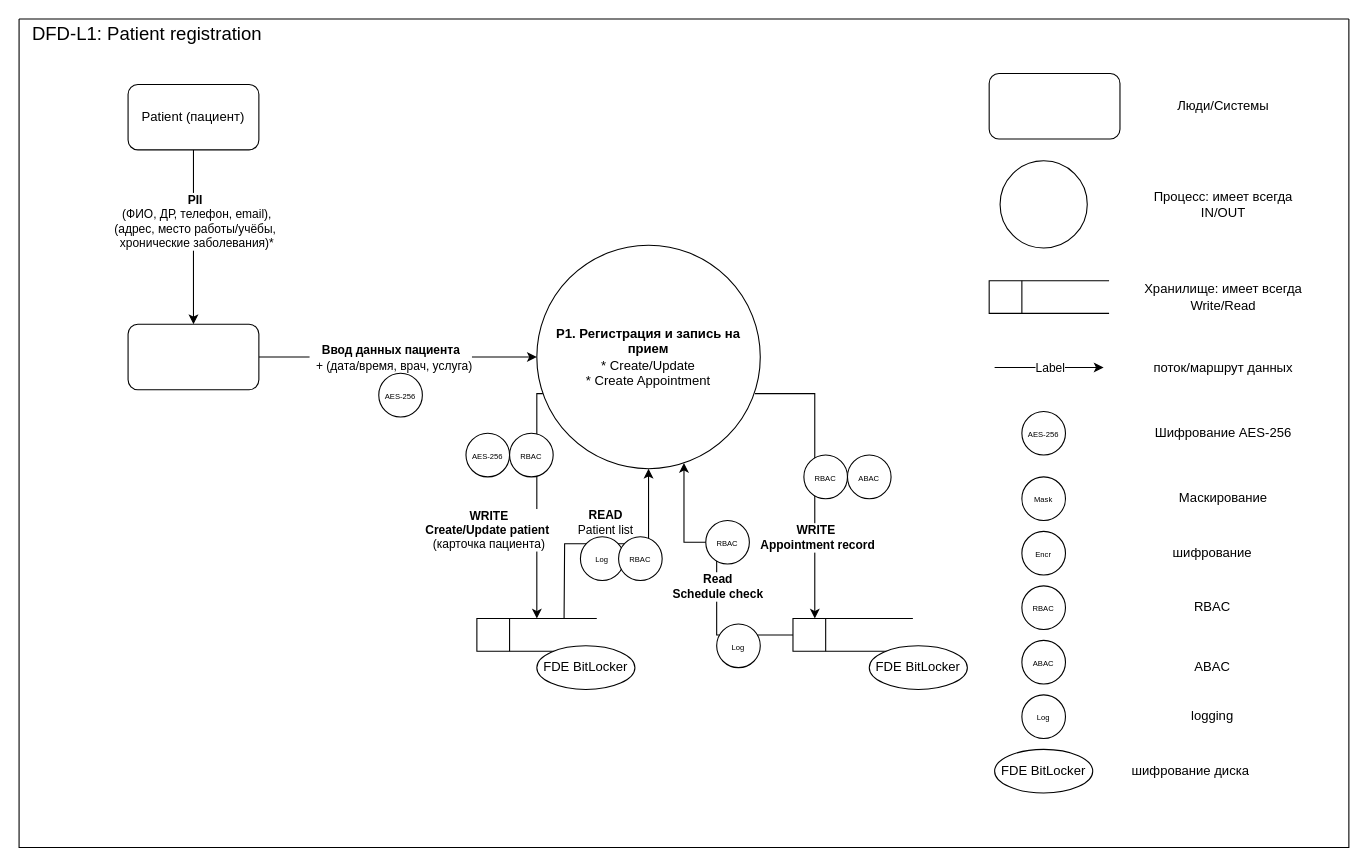
The diagram is 1368 pixels wide and 867 high, and some of its shapes have lost their labels. The shapes that lost their labels are listed below. From the top down, each one's box as (x1, y1, x2, y2) in pixels, then its label:
(988, 72, 1120, 139): External object
(999, 160, 1087, 248): P1. Procces
(988, 280, 1109, 313): D1 Storage
(127, 323, 259, 390): Reception (ресепшн)
(476, 617, 597, 651): D1 Patients.xlsx
(792, 617, 913, 651): D2 Journal.xlsx
